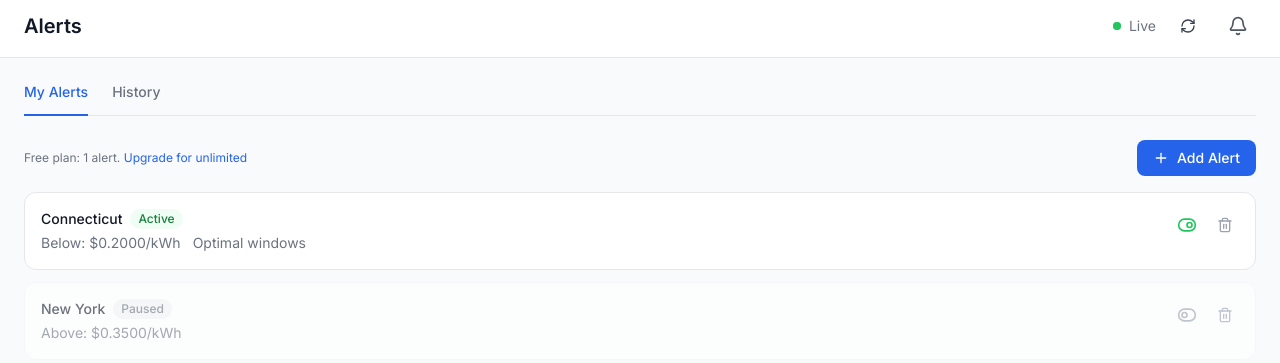
it: AlertsContent › shows empty history state when no history exists
Click the button "History". click: (136, 99)
box: top-left (112, 82), bottom-right (160, 116)
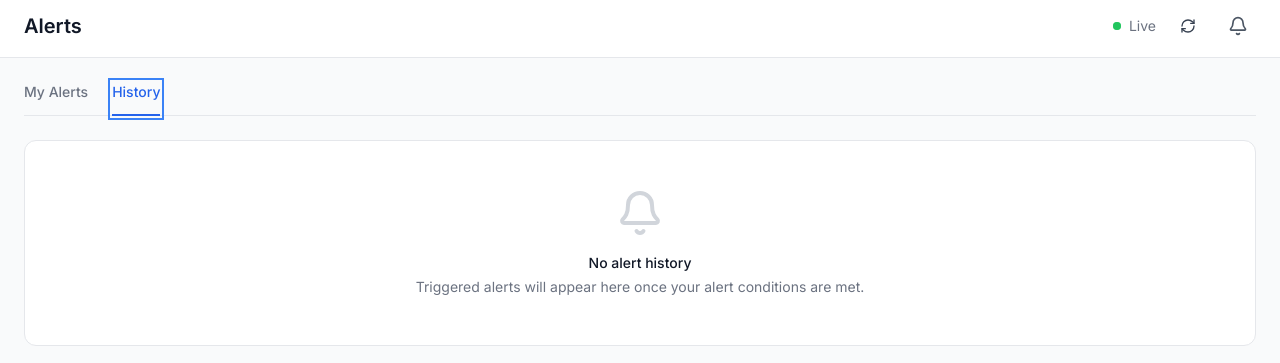
Result: the element with test id "empty-history" is shown at top-left (24, 140), bottom-right (1256, 346)
Result: the heading "No alert history" is shown at top-left (588, 254), bottom-right (691, 271)
